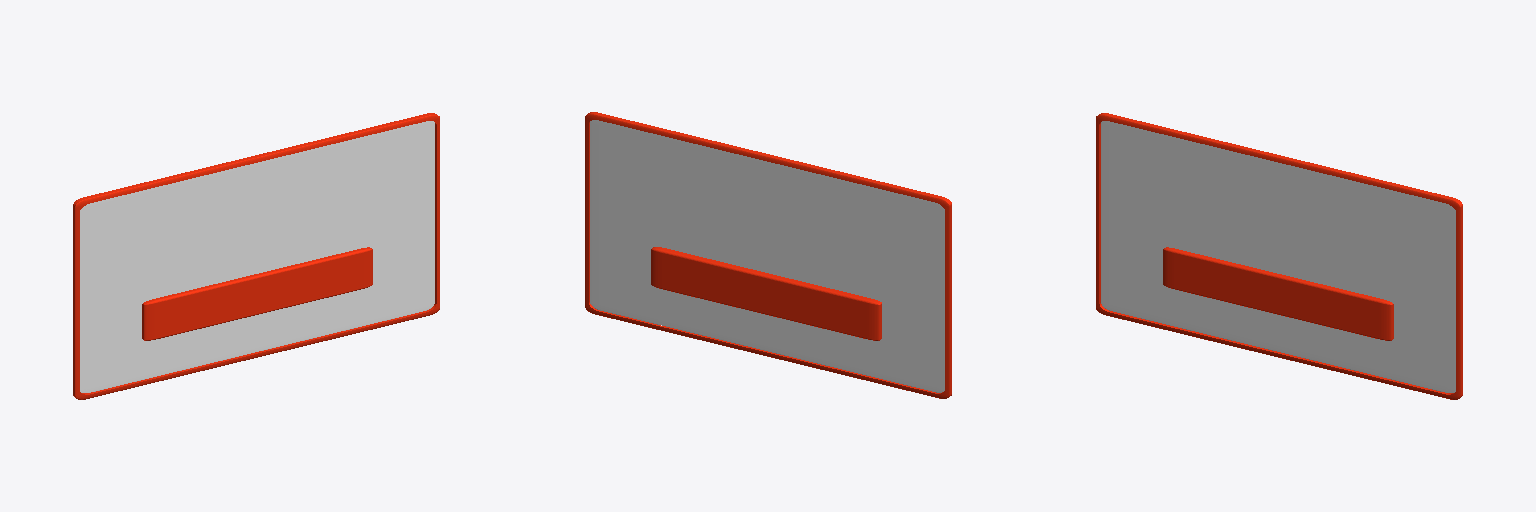
File: RedCard.obj
The picture shows the model from 3 angles: view 1: azimuth 30°, elevation 25°; view 2: azimuth 150°, elevation 25°; view 3: azimuth 330°, elevation 25°; orthographic projection.
Visible parts, largest first — view 1: group_0_-[number redacted], group_0_[number redacted]; view 2: group_0_-[number redacted], group_0_[number redacted]; view 3: group_0_-[number redacted], group_0_[number redacted].
Part boxes in pixels (bbox=[...]): group_0_-[number redacted]: bbox=[80, 121, 434, 392]; group_0_[number redacted]: bbox=[73, 113, 439, 399]; group_0_-[number redacted]: bbox=[590, 120, 944, 392]; group_0_[number redacted]: bbox=[585, 112, 951, 398]; group_0_-[number redacted]: bbox=[1101, 121, 1455, 392]; group_0_[number redacted]: bbox=[1096, 113, 1462, 399].
Bounding box in the file's own units: 2.49 × 1.3 × 0.09.